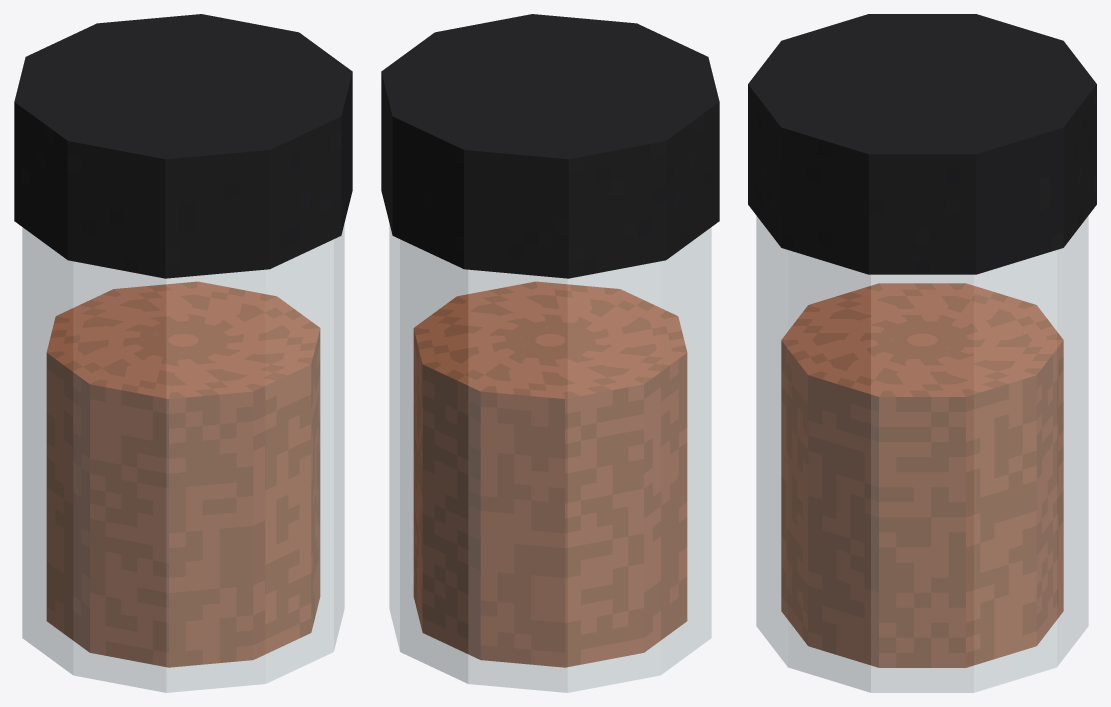
Rendered from bottle_glass_seasoning_small.glb.
The picture shows the model from 3 angles, left to right: view 1: azimuth 30°, elevation 25°; view 2: azimuth 150°, elevation 25°; view 3: azimuth 270°, elevation 25°; orthographic projection.
Parts seen in each view (by area): view 1: block_body, block_spice, block_cap; view 2: block_body, block_spice, block_cap; view 3: block_body, block_spice, block_cap.
Boxes of the visible parts, x1,y1,x2,y2 form: block_body: (22, 224, 344, 692); block_spice: (46, 281, 320, 667); block_cap: (14, 14, 352, 278); block_body: (389, 224, 711, 692); block_spice: (413, 281, 687, 667); block_cap: (381, 14, 719, 278); block_body: (756, 216, 1088, 692); block_spice: (781, 283, 1063, 667); block_cap: (748, 14, 1096, 274).
Bounding box in the file's own units: 0.0399 × 0.072 × 0.042.
2 materials, 2 textured.
